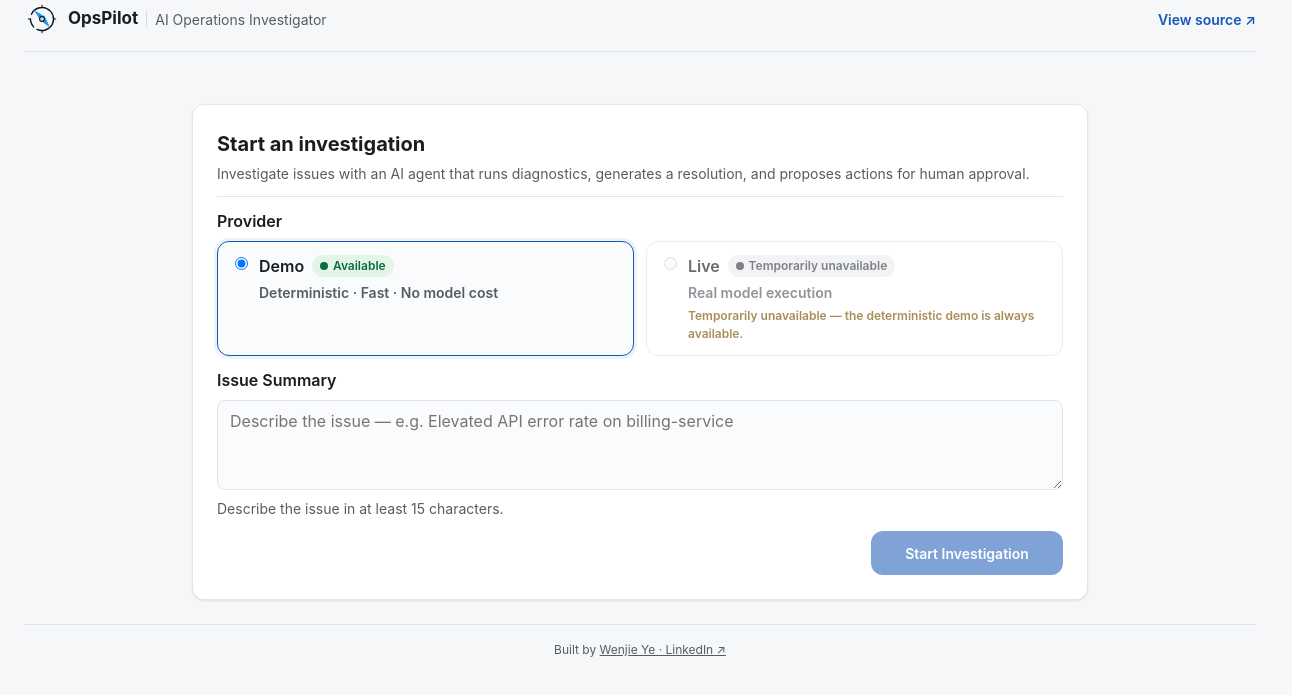
it: App approval workflow › a 201 reject response shows the terminal REJECTED panel
Type "Approval demo issue" into the text box labelled "Issue Summary". click: (640, 445)
box: [217, 400, 1063, 490]
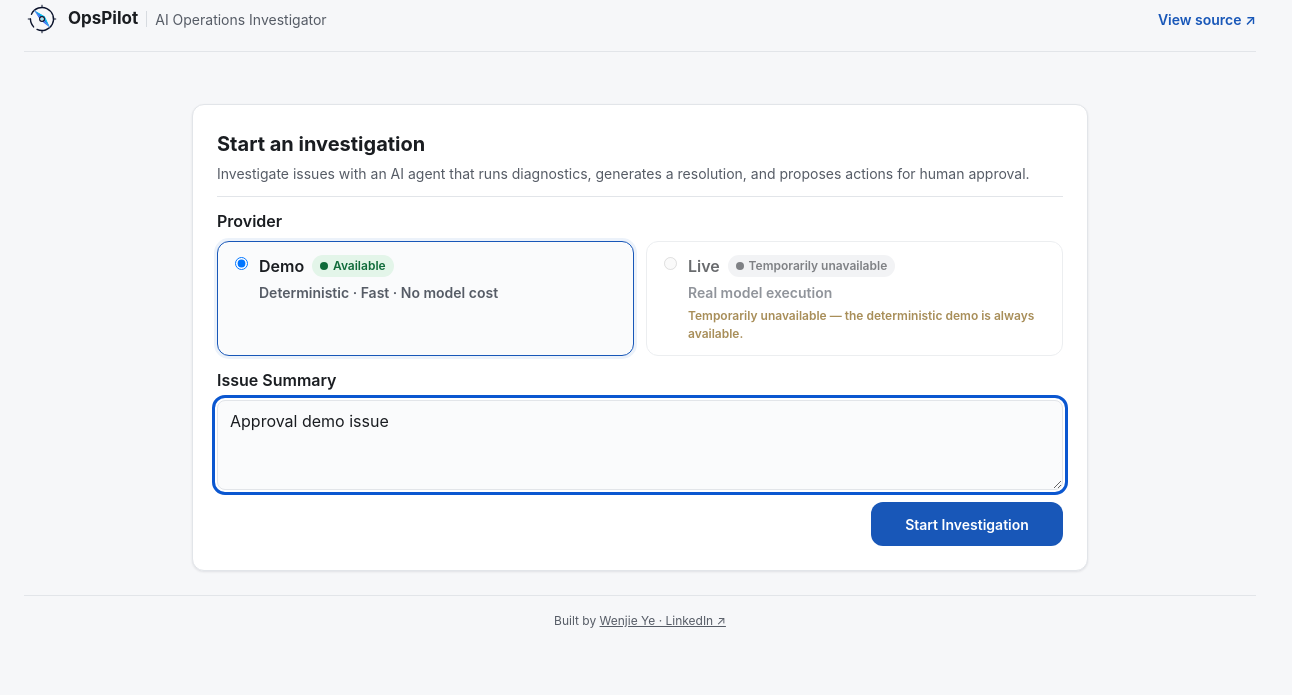
Click the button "Start Investigation". click: (967, 524)
box: [871, 502, 1063, 546]
(page scrolled)
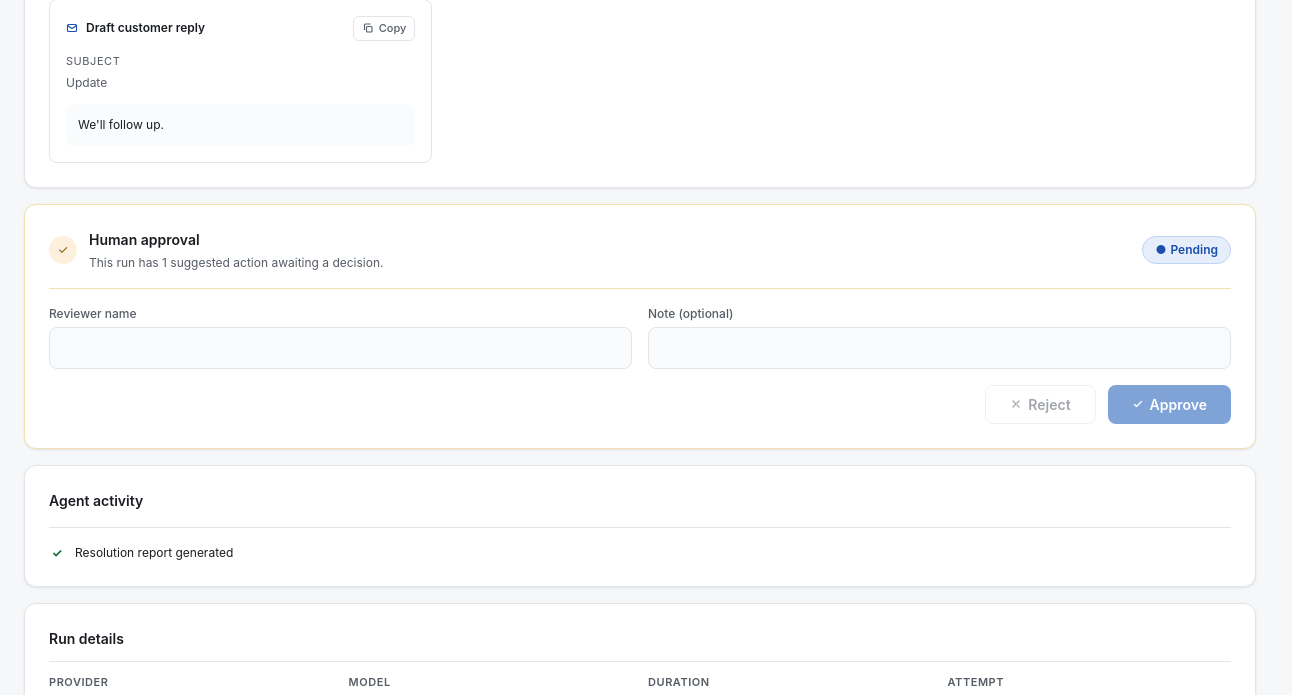
Now the text "Pending" is shown, box [1170, 242, 1218, 257]
Type "Jacky" into the field labelled "Reviewer name". click: (340, 348)
box: [49, 327, 632, 369]
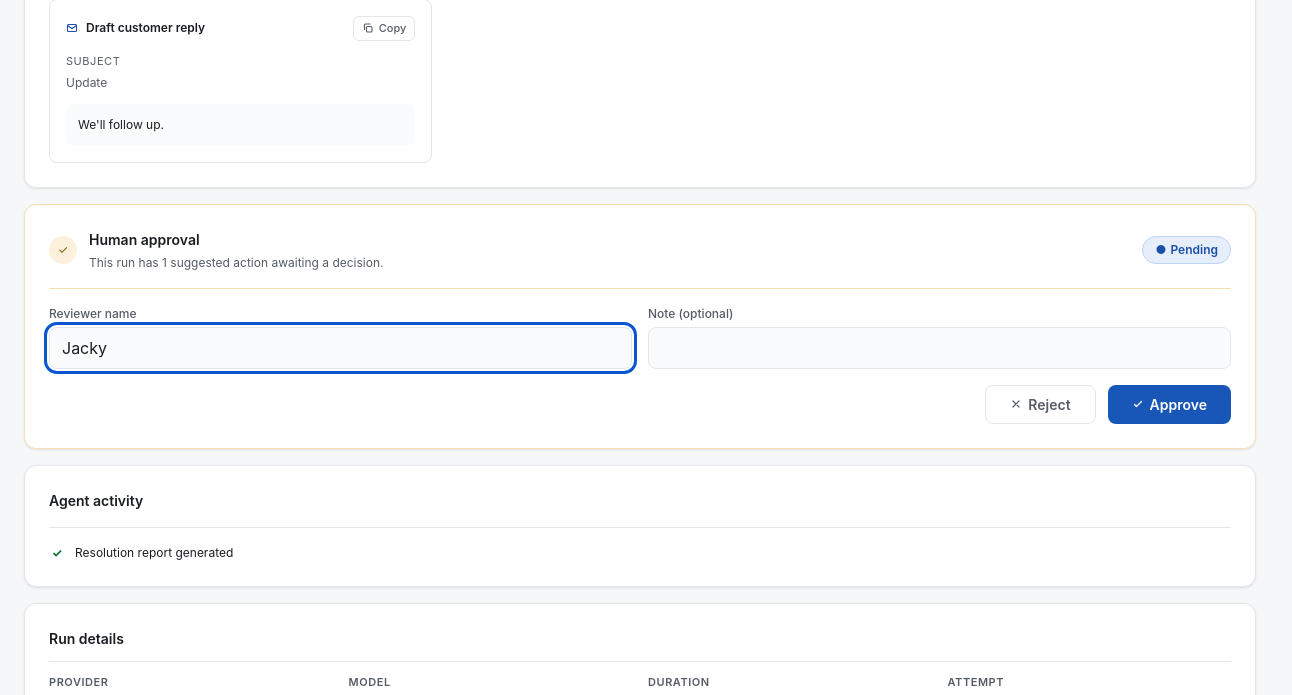
Click the button "Reject". click: (1040, 404)
box: [985, 385, 1096, 424]
(page scrolled)
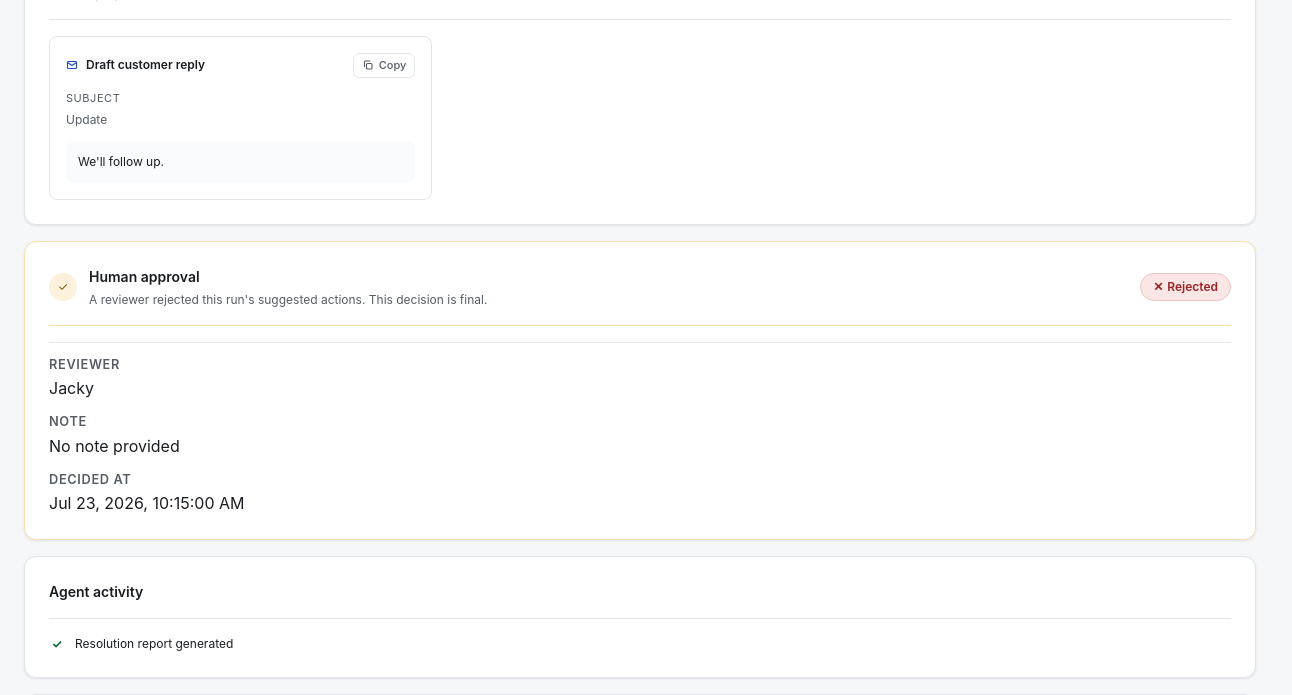
Now the text "Rejected" is shown, box [1167, 279, 1218, 294]
